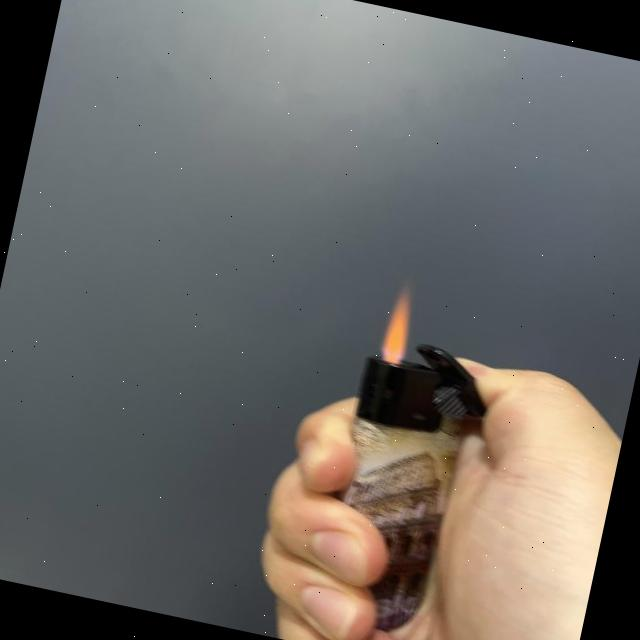fire: (377, 284, 422, 364)
